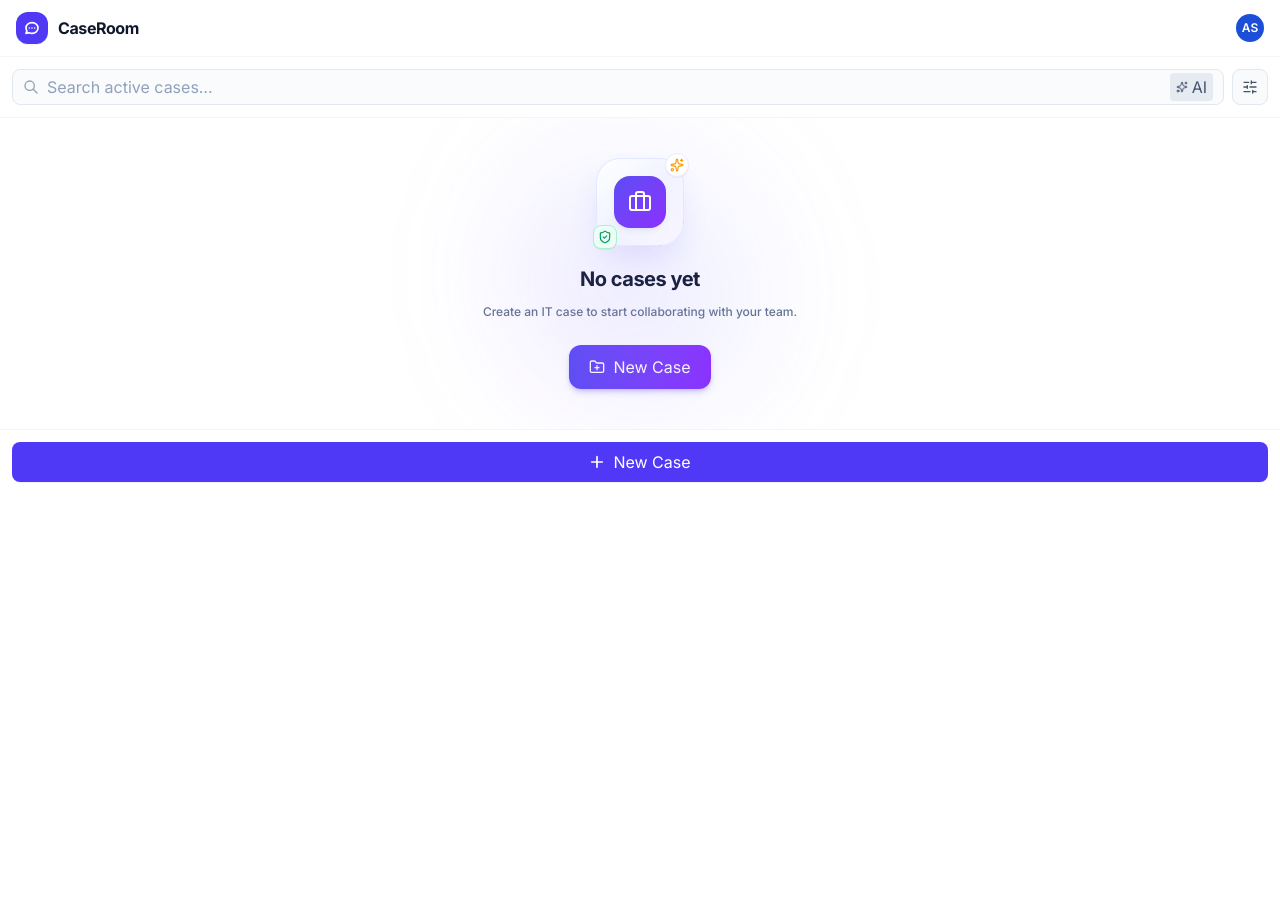
it: CaseSidebar — create modal › opens CreateCaseModal when footer New Case button is clicked
The width and height of the screenshot is (1280, 900).
What coordinates should you click on to do the following:
click the 2nd button "New Case"
I would click on:
 (640, 462)
Its box is [12, 442, 1268, 482].
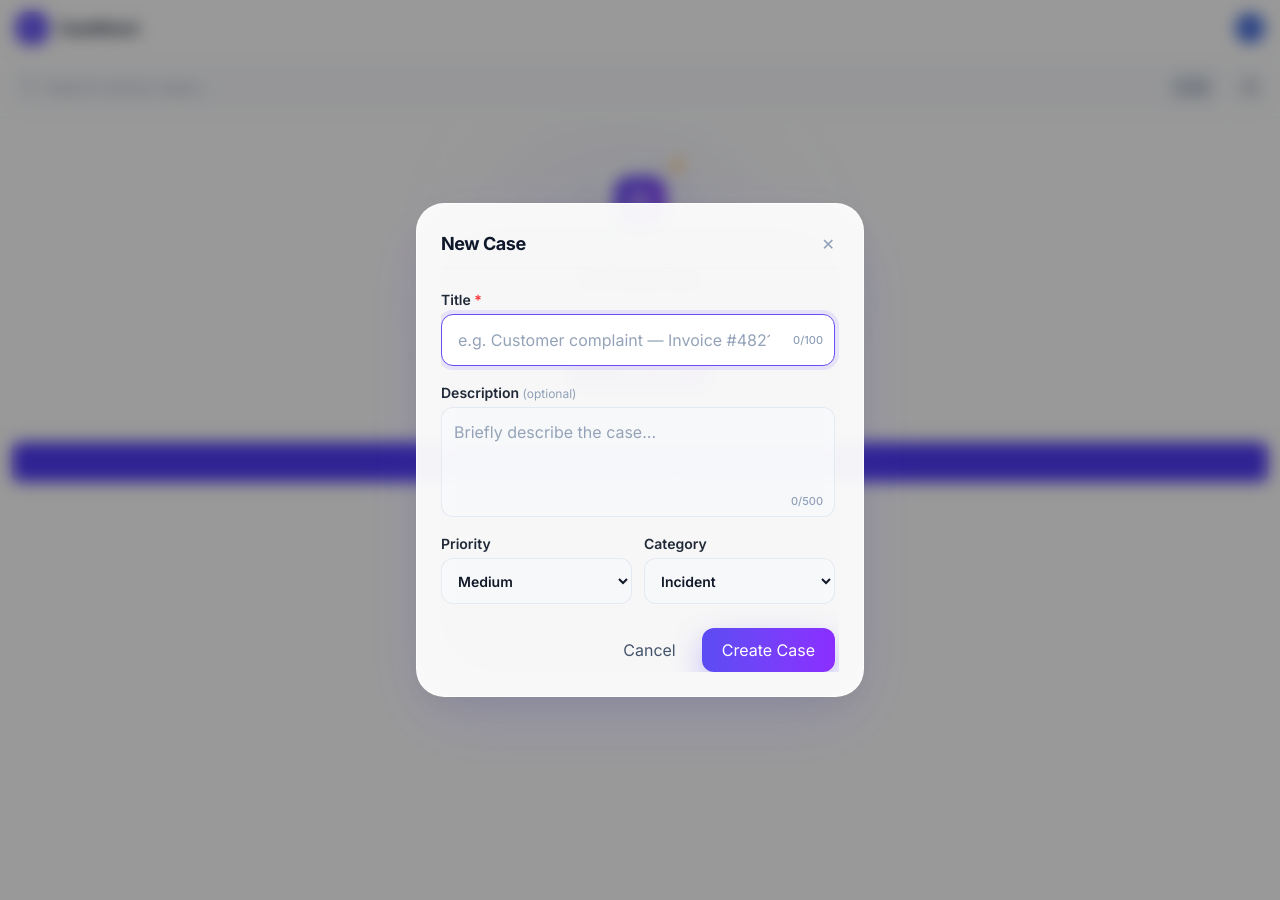
Expected: the dialog is shown
